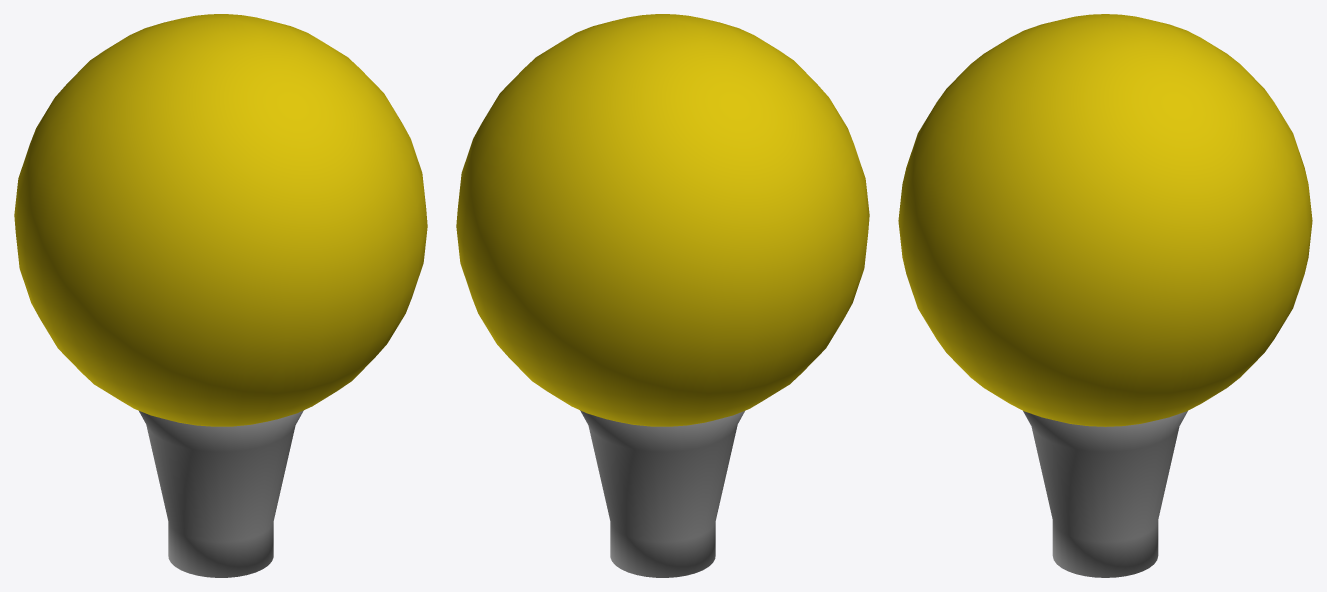
The model's file is Lightbulb.glb.
The picture shows the model from 3 angles, left to right: view 1: azimuth 30°, elevation 25°; view 2: azimuth 150°, elevation 25°; view 3: azimuth 270°, elevation 25°; orthographic projection.
Parts seen in each view (by area): view 1: Sphere, Cylinder; view 2: Sphere, Cylinder; view 3: Sphere, Cylinder.
Part boxes in pixels (<box>): Sphere: <box>14,14,427,426</box>; Cylinder: <box>139,410,303,577</box>; Sphere: <box>456,14,869,426</box>; Cylinder: <box>580,410,744,577</box>; Sphere: <box>898,14,1312,426</box>; Cylinder: <box>1023,411,1187,577</box>.
Bounding box in the file's own units: 0.4 × 0.5568 × 0.4.
